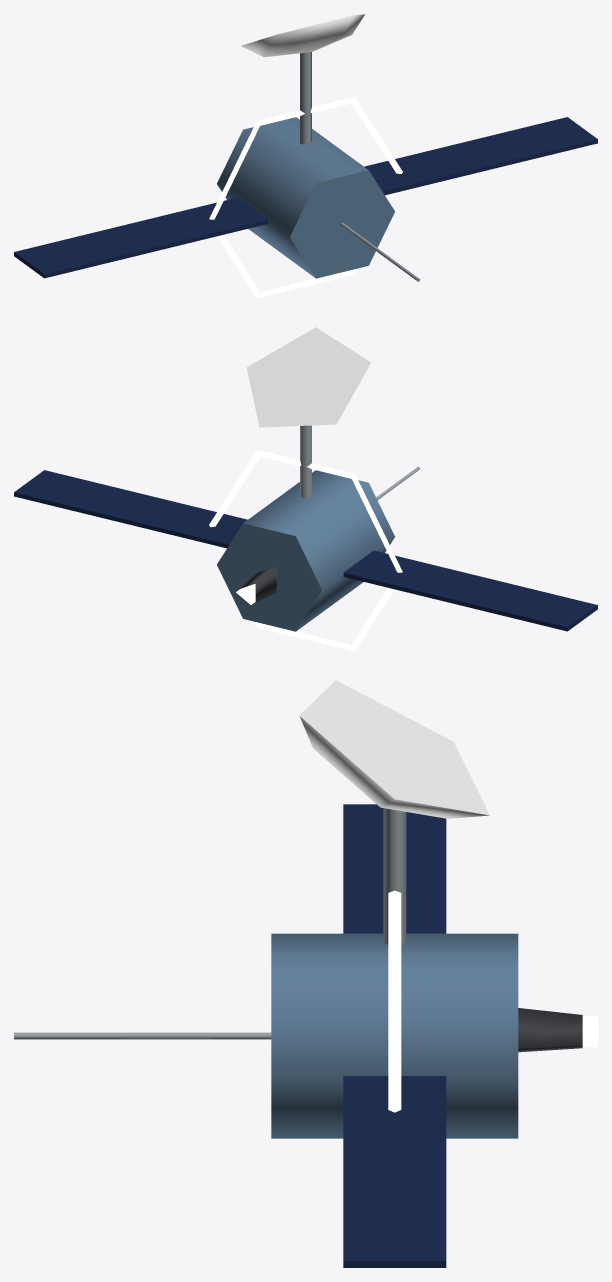
The model's file is space_ship_probe_mk6_lod2.glb.
3 views of the same model, one above another, from view 1: azimuth 30°, elevation 25°; view 2: azimuth 150°, elevation 25°; view 3: azimuth 270°, elevation 25° (orthographic). The views are drawn at different scales.
Parts seen in each view (by area): view 1: body, solar_0, solar_1, antenna_0; view 2: body, antenna_0, solar_0, solar_1, engine_0; view 3: body, solar_1, antenna_0, solar_0, engine_0.
Part boxes in pixels (x1,y1,x2,y2): body: (209, 97, 420, 298); solar_0: (14, 197, 268, 278); solar_1: (364, 117, 597, 195); antenna_0: (241, 14, 364, 144); body: (209, 450, 420, 651); antenna_0: (246, 327, 371, 497); solar_0: (343, 550, 597, 631); solar_1: (14, 470, 247, 548); engine_0: (236, 566, 276, 604); body: (14, 890, 518, 1138); solar_1: (343, 1076, 446, 1267); antenna_0: (299, 680, 489, 944); solar_0: (343, 804, 446, 933); engine_0: (518, 1008, 597, 1052).
Bounding box in the file's own units: 8.4 × 4.17 × 4.54.
